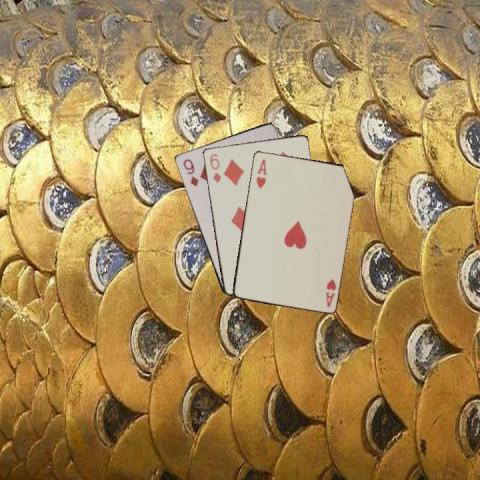6d: (207, 151, 222, 184)
9d: (180, 155, 199, 188)
Ah: (253, 156, 268, 190), (322, 276, 337, 309)
